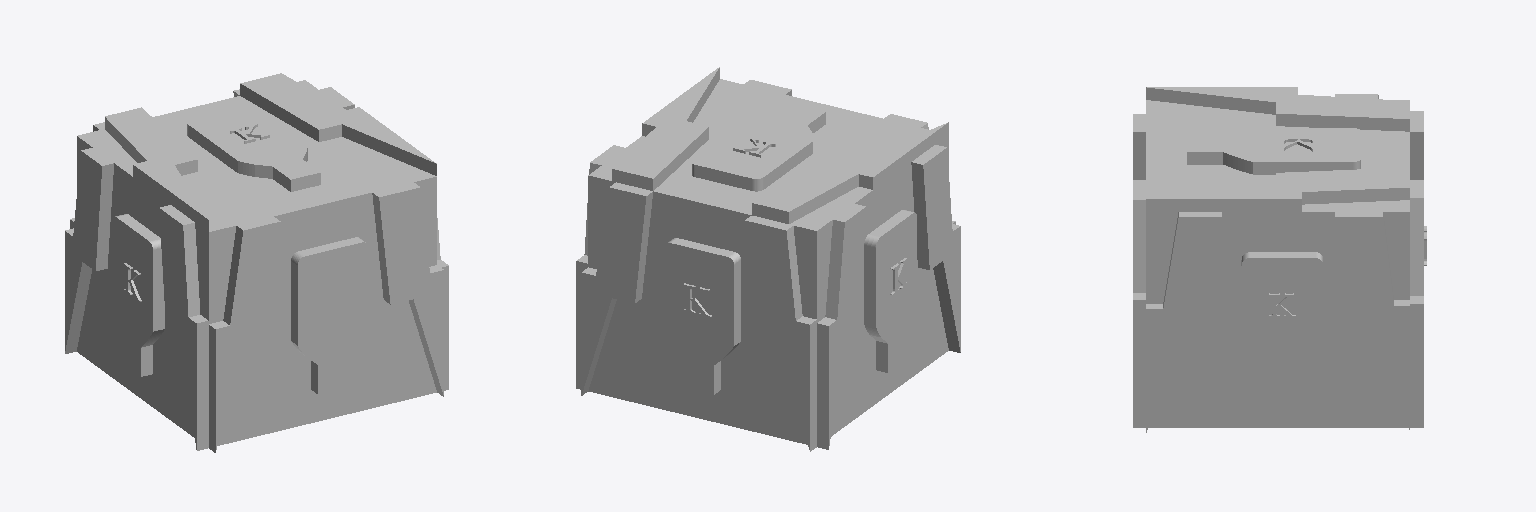
File: Ketchup.obj
The picture shows the model from 3 angles: view 1: azimuth 30°, elevation 25°; view 2: azimuth 150°, elevation 25°; view 3: azimuth 270°, elevation 25°; orthographic projection.
Visible parts, largest first — view 1: group_3.001_ID224, group_5.002_ID243, group_5.004_ID255, group_4.004_ID176, group_1.004_ID45, group_4.002_ID164, group_5_ID231, group_1.002_ID31, group_4_ID152, group_1_ID15, group_5.006_ID267, group_1.006_ID57 (+3 smaller); view 2: group_3.001_ID224, group_6.004_ID315, group_6.002_ID303, group_4.002_ID164, group_4.004_ID176, group_1.002_ID31, group_6_ID291, group_1.004_ID45, group_4_ID152, group_1_ID15, group_6.006_ID327, group_1.006_ID57 (+2 smaller); view 3: group_3.001_ID224, group_2.004_ID116, group_2.002_ID104, group_1.004_ID45, group_1.002_ID31, group_2_ID92, group_1_ID15, group_2.006_ID128, group_6.002_ID303, group_5.004_ID255, group_1.006_ID57, group_6.004_ID315 (+1 smaller).
Boxes of the visible parts, x1=… form: group_3.001_ID224: x1=77, y1=80, x2=436, y2=445; group_5.002_ID243: x1=209, y1=217, x2=280, y2=452; group_5.004_ID255: x1=372, y1=182, x2=443, y2=396; group_4.004_ID176: x1=159, y1=205, x2=208, y2=450; group_1.004_ID45: x1=240, y1=73, x2=436, y2=175; group_4.002_ID164: x1=65, y1=148, x2=113, y2=353; group_5_ID231: x1=291, y1=237, x2=367, y2=387; group_1.002_ID31: x1=105, y1=107, x2=208, y2=231; group_4_ID152: x1=112, y1=214, x2=164, y2=369; group_1_ID15: x1=187, y1=105, x2=315, y2=188; group_5.006_ID267: x1=298, y1=266, x2=367, y2=332; group_1.006_ID57: x1=199, y1=115, x2=299, y2=154; group_3.001_ID224: x1=588, y1=79, x2=948, y2=444; group_6.004_ID315: x1=745, y1=216, x2=816, y2=451; group_6.002_ID303: x1=581, y1=182, x2=652, y2=395; group_4.002_ID164: x1=817, y1=204, x2=865, y2=449; group_4.004_ID176: x1=911, y1=145, x2=960, y2=352; group_1.002_ID31: x1=752, y1=122, x2=948, y2=223; group_6_ID291: x1=664, y1=238, x2=740, y2=388; group_1.004_ID45: x1=612, y1=67, x2=719, y2=190; group_4_ID152: x1=864, y1=210, x2=916, y2=365; group_1_ID15: x1=692, y1=108, x2=821, y2=191; group_6.006_ID327: x1=664, y1=266, x2=733, y2=333; group_1.006_ID57: x1=705, y1=130, x2=804, y2=168; group_3.001_ID224: x1=1146, y1=100, x2=1409, y2=427; group_2.004_ID116: x1=1335, y1=212, x2=1409, y2=429; group_2.002_ID104: x1=1146, y1=212, x2=1221, y2=432; group_1.004_ID45: x1=1146, y1=167, x2=1409, y2=211; group_1.002_ID31: x1=1146, y1=87, x2=1409, y2=131; group_2_ID92: x1=1241, y1=252, x2=1322, y2=392; group_1_ID15: x1=1195, y1=128, x2=1360, y2=174; group_2.006_ID128: x1=1241, y1=283, x2=1322, y2=333; group_6.002_ID303: x1=1410, y1=180, x2=1423, y2=427; group_5.004_ID255: x1=1133, y1=180, x2=1145, y2=427; group_1.006_ID57: x1=1268, y1=128, x2=1330, y2=161; group_6.004_ID315: x1=1410, y1=111, x2=1423, y2=179.
Bounding box in the file's own units: 1.57 × 1.35 × 1.56.